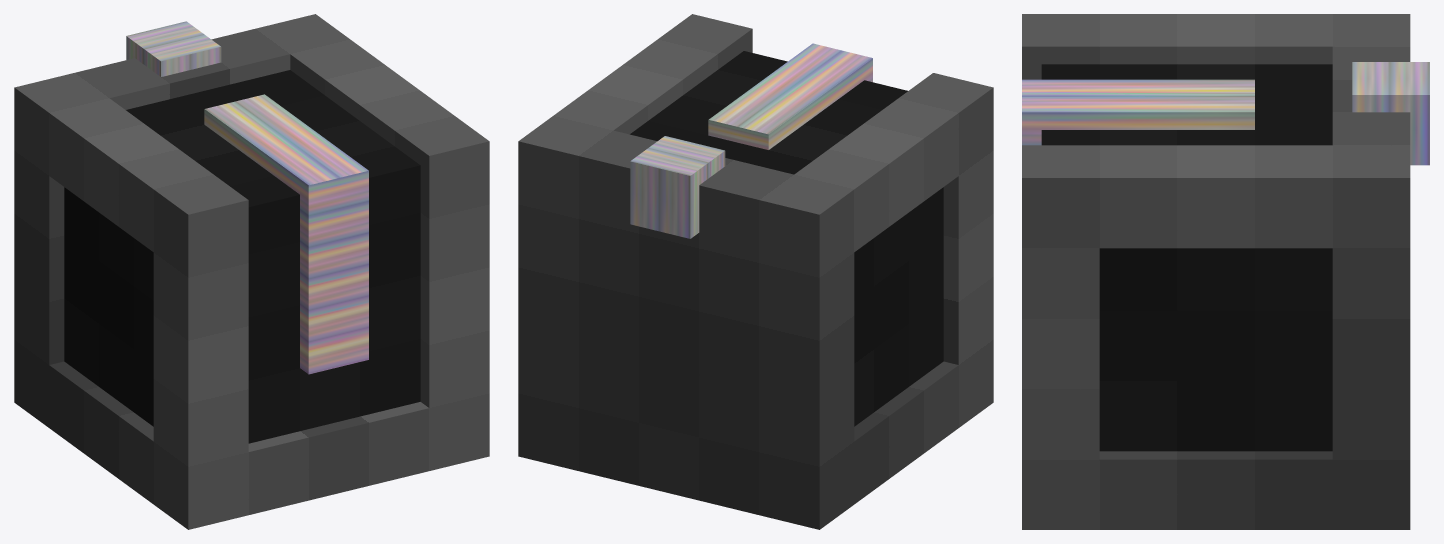
File: head_smart.obj
The picture shows the model from 3 angles, left to right: view 1: azimuth 30°, elevation 25°; view 2: azimuth 150°, elevation 25°; view 3: azimuth 270°, elevation 25°; orthographic projection. The views are drawn at different scales.
Visible parts, largest first — view 1: HEAD_SMART_STONE_Cube.064; view 2: HEAD_SMART_STONE_Cube.064; view 3: HEAD_SMART_STONE_Cube.064.
Part boxes in pixels (x1,y1,x2,y2): HEAD_SMART_STONE_Cube.064: (14, 14, 489, 529); HEAD_SMART_STONE_Cube.064: (518, 14, 993, 529); HEAD_SMART_STONE_Cube.064: (1022, 14, 1429, 529).
Size of the model in its own units: 0.3125 by 0.3281 by 0.3281.
